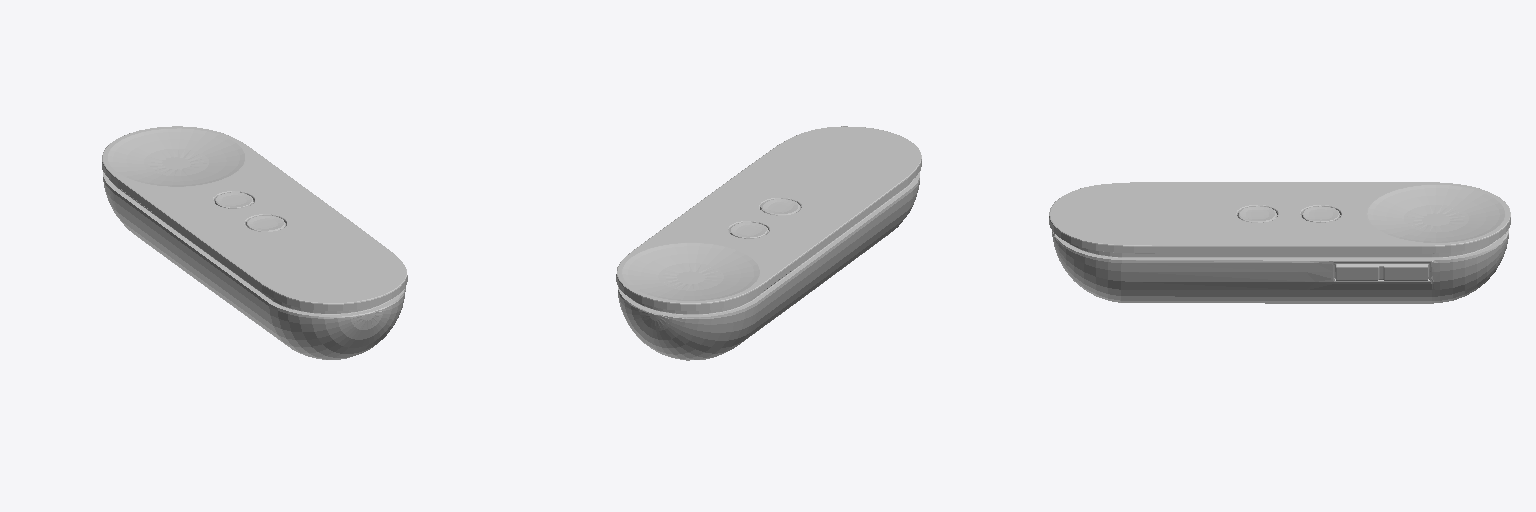
File: vr_controller_daydream.obj
The picture shows the model from 3 angles: view 1: azimuth 30°, elevation 25°; view 2: azimuth 150°, elevation 25°; view 3: azimuth 270°, elevation 25°; orthographic projection.
Visible parts, largest first — view 1: vr_controller_daydream; view 2: vr_controller_daydream; view 3: vr_controller_daydream.
Boxes of the visible parts, box(x1,y1,x2,y2) form: vr_controller_daydream: box(102, 126, 407, 359); vr_controller_daydream: box(616, 126, 921, 360); vr_controller_daydream: box(1049, 182, 1510, 303).
Size of the model in its own units: 0.0474 by 0.0279 by 0.1409.